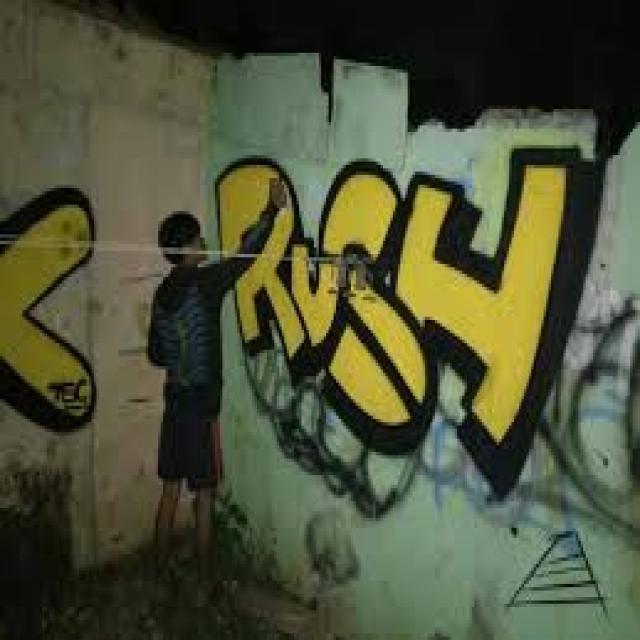-: (215, 143, 600, 504), (0, 185, 97, 434), (502, 532, 609, 610)
